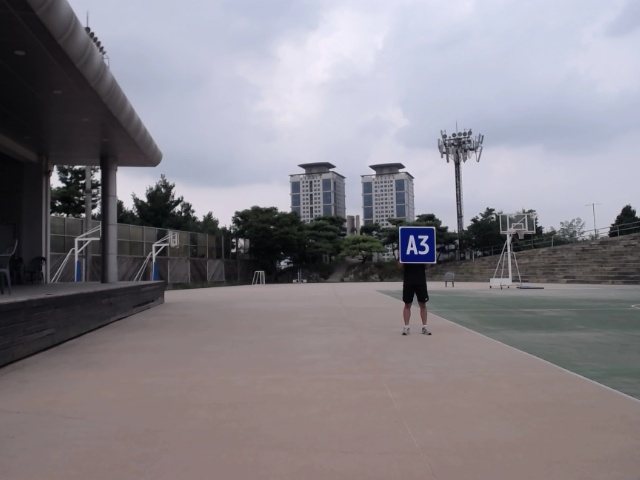delivery_a3: (399, 226, 437, 263)
